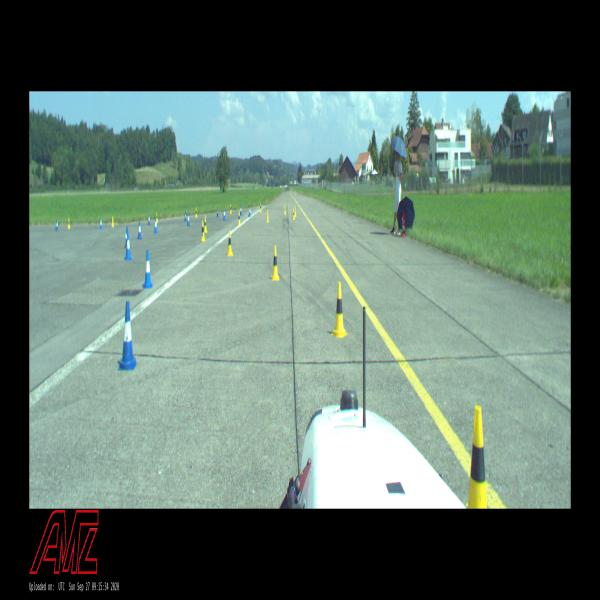blue_cone: (118, 302, 137, 370), (144, 250, 152, 288), (125, 234, 132, 260), (125, 226, 130, 248), (153, 217, 158, 234), (137, 222, 142, 238), (223, 208, 226, 220), (55, 219, 58, 231), (187, 214, 190, 226), (248, 205, 251, 216), (100, 217, 102, 229), (184, 212, 187, 220), (148, 214, 150, 225), (240, 205, 242, 215), (216, 208, 218, 216)
yellow_cone: (466, 406, 488, 509), (332, 283, 347, 338), (271, 246, 280, 280), (227, 231, 233, 256), (201, 220, 206, 240), (204, 215, 208, 232), (238, 211, 241, 226), (266, 210, 269, 222), (195, 208, 198, 218), (293, 208, 295, 220), (68, 217, 70, 228), (156, 212, 158, 223), (112, 216, 114, 227), (294, 206, 296, 217), (260, 202, 262, 212), (230, 204, 232, 214), (284, 205, 286, 214)
